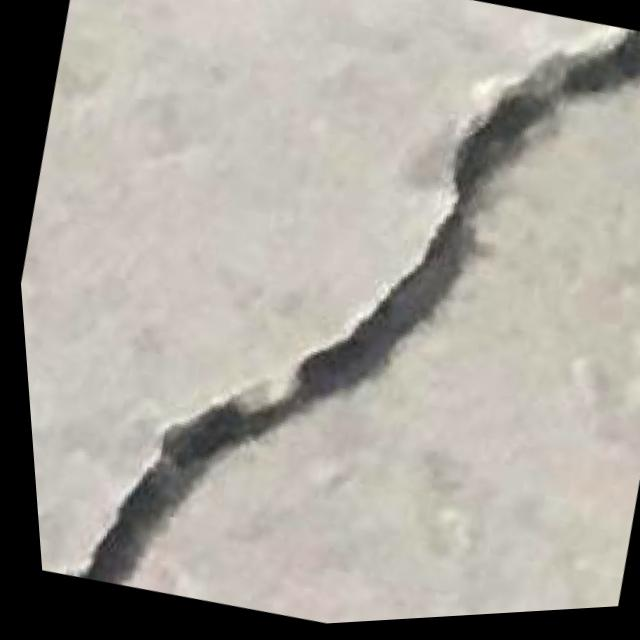Crack: (36, 0, 640, 638)
